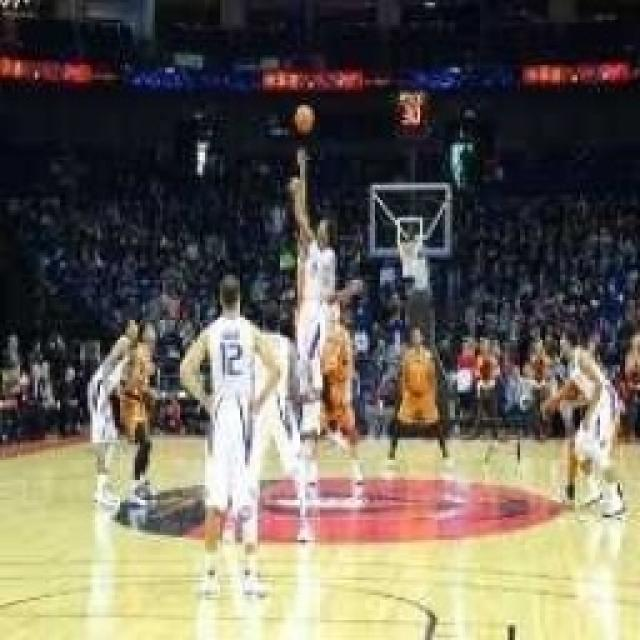rim: (290, 101, 320, 134)
